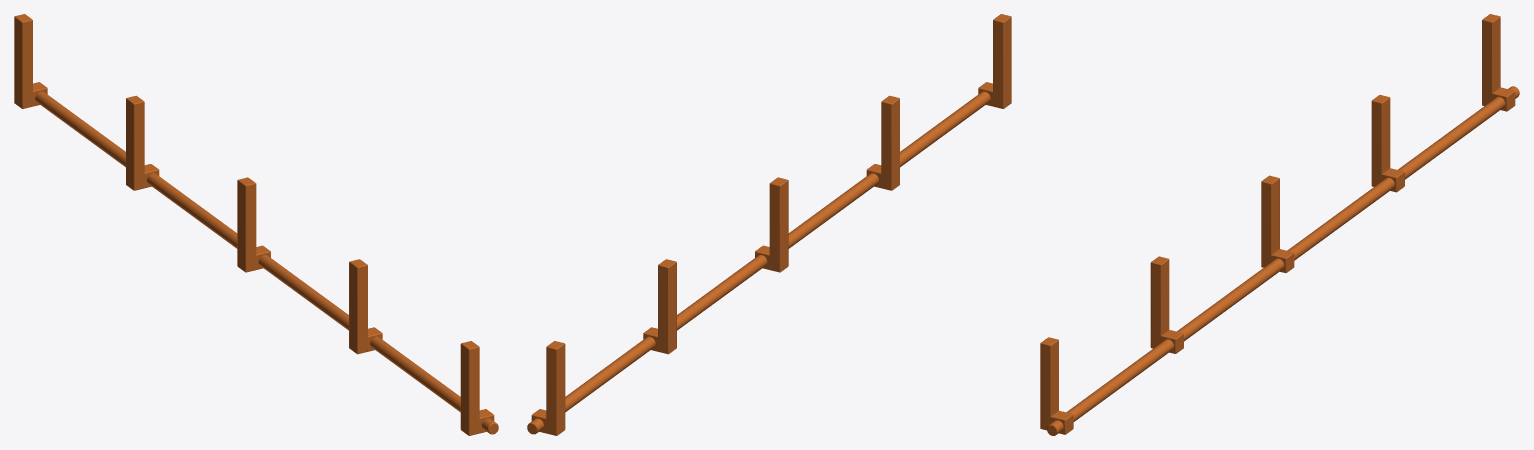
Rendered from stacker_surge_stop.glb.
The picture shows the model from 3 angles, left to right: view 1: azimuth 30°, elevation 25°; view 2: azimuth 150°, elevation 25°; view 3: azimuth 330°, elevation 25°; orthographic projection.
Visible parts, largest first — view 1: SurgeStop; view 2: SurgeStop; view 3: SurgeStop.
Boxes of the visible parts, box(x1,y1,x2,y2) form: SurgeStop: box(14, 14, 498, 435); SurgeStop: box(527, 14, 1011, 435); SurgeStop: box(1040, 14, 1519, 435).
Size of the model in its own units: 0.14 by 0.452 by 4.4.
